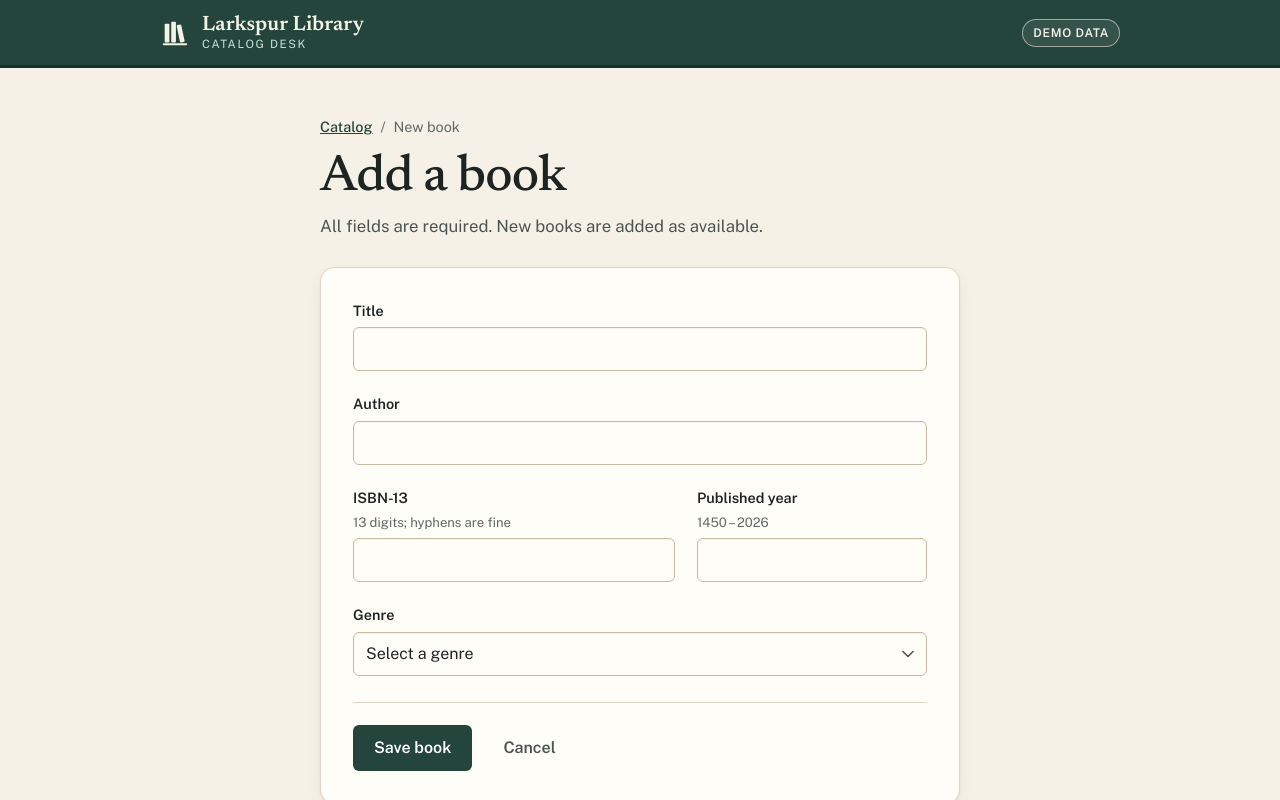
AddBookPage › FE-AC6: rejects a bad ISBN checksum and focuses ISBN
This screenshot has width=1280, height=800.
In the field labelled "Title": x=640, y=349 [353,327,927,371], type "Dune"
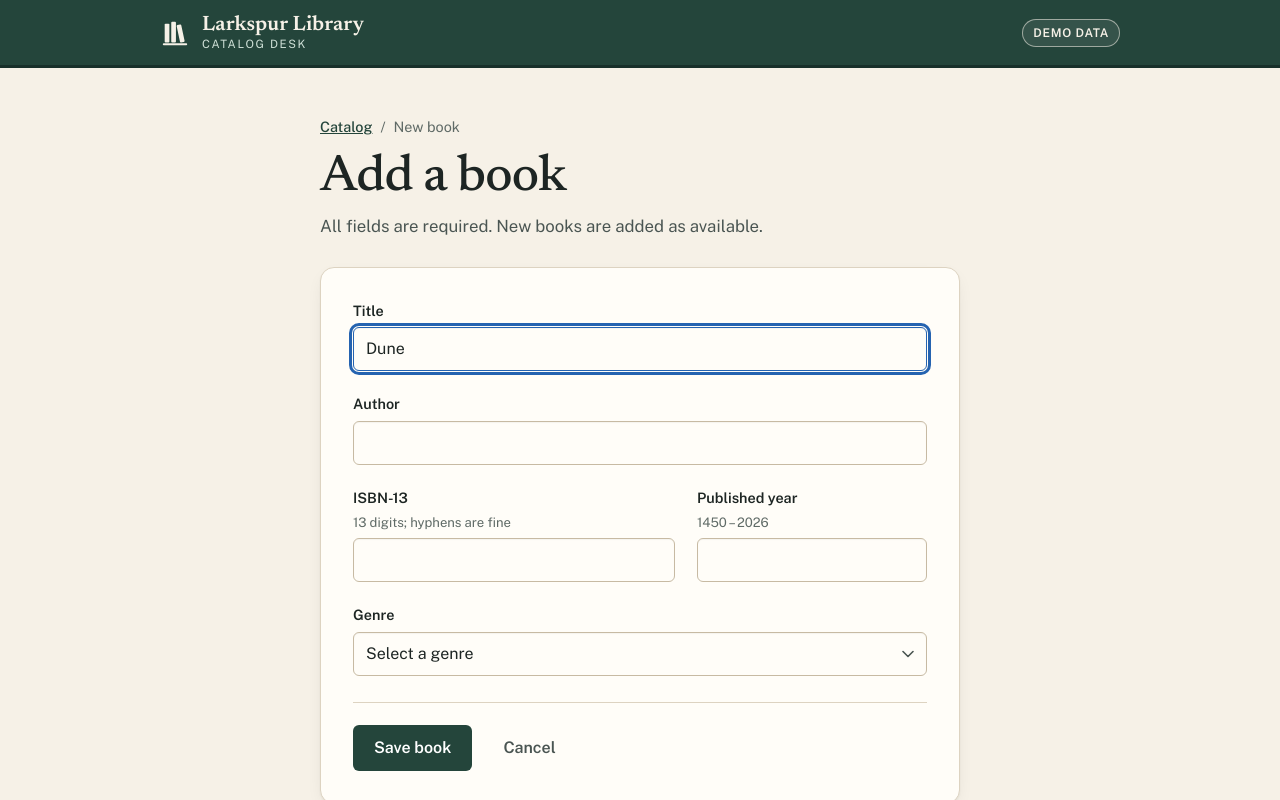
In the field labelled "Author": x=640, y=443 [353,421,927,465], type "Frank Herbert"
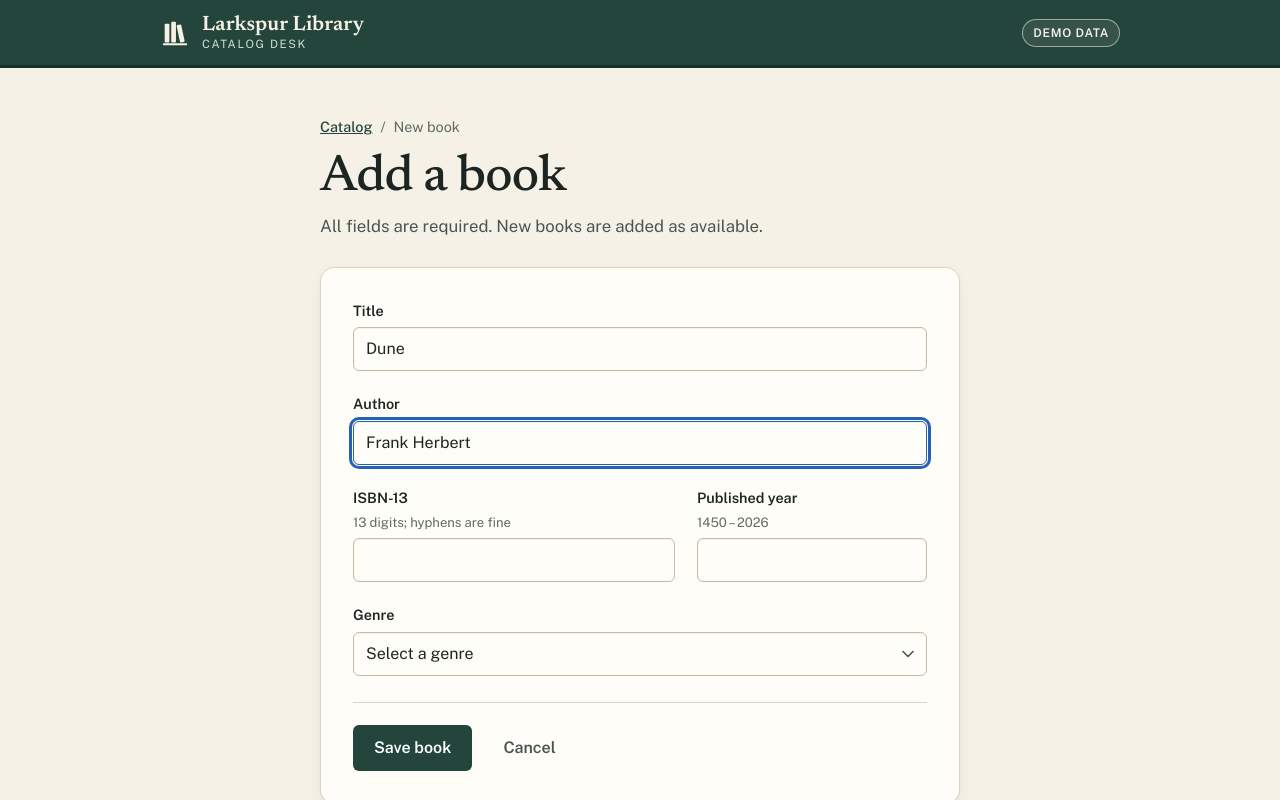
In the field labelled "ISBN-13": x=514, y=560 [353,538,675,582], type "9780441172710"
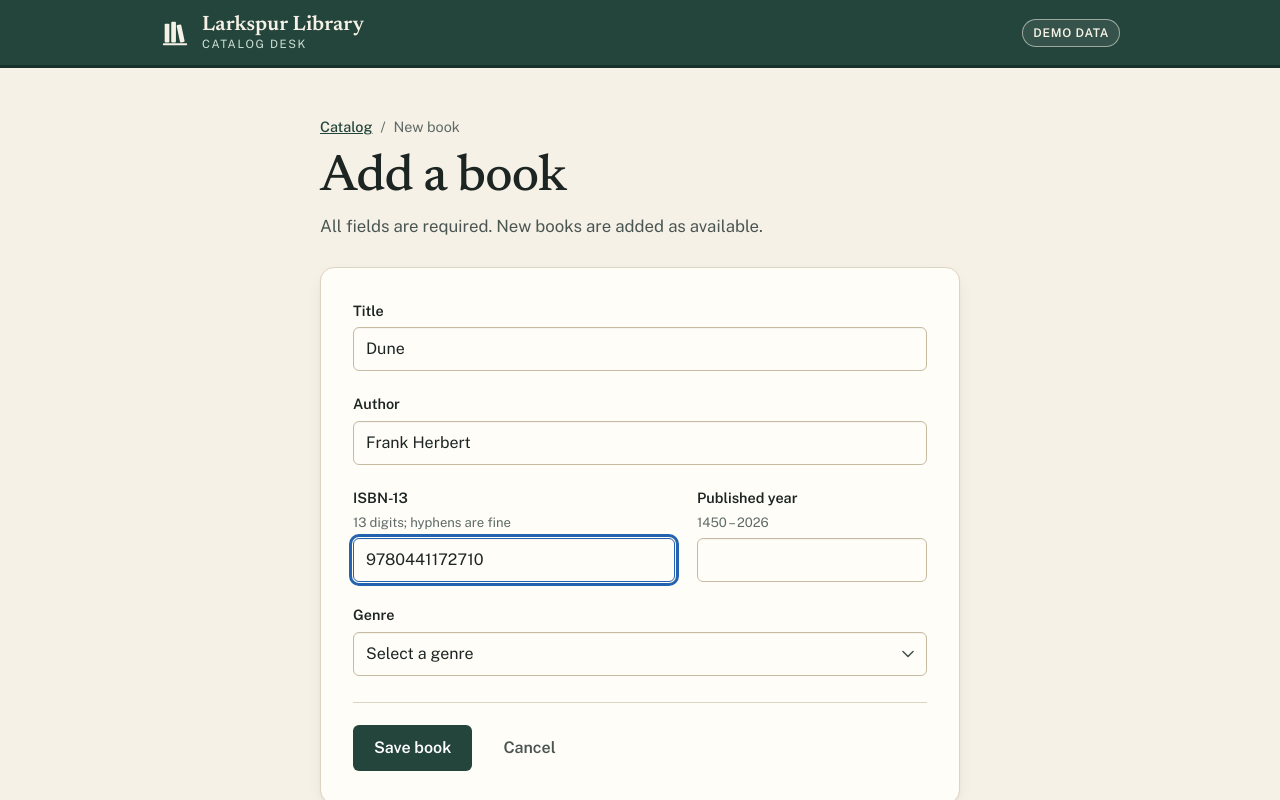
In the field labelled "Published year": x=812, y=560 [697,538,927,582], type "1965"
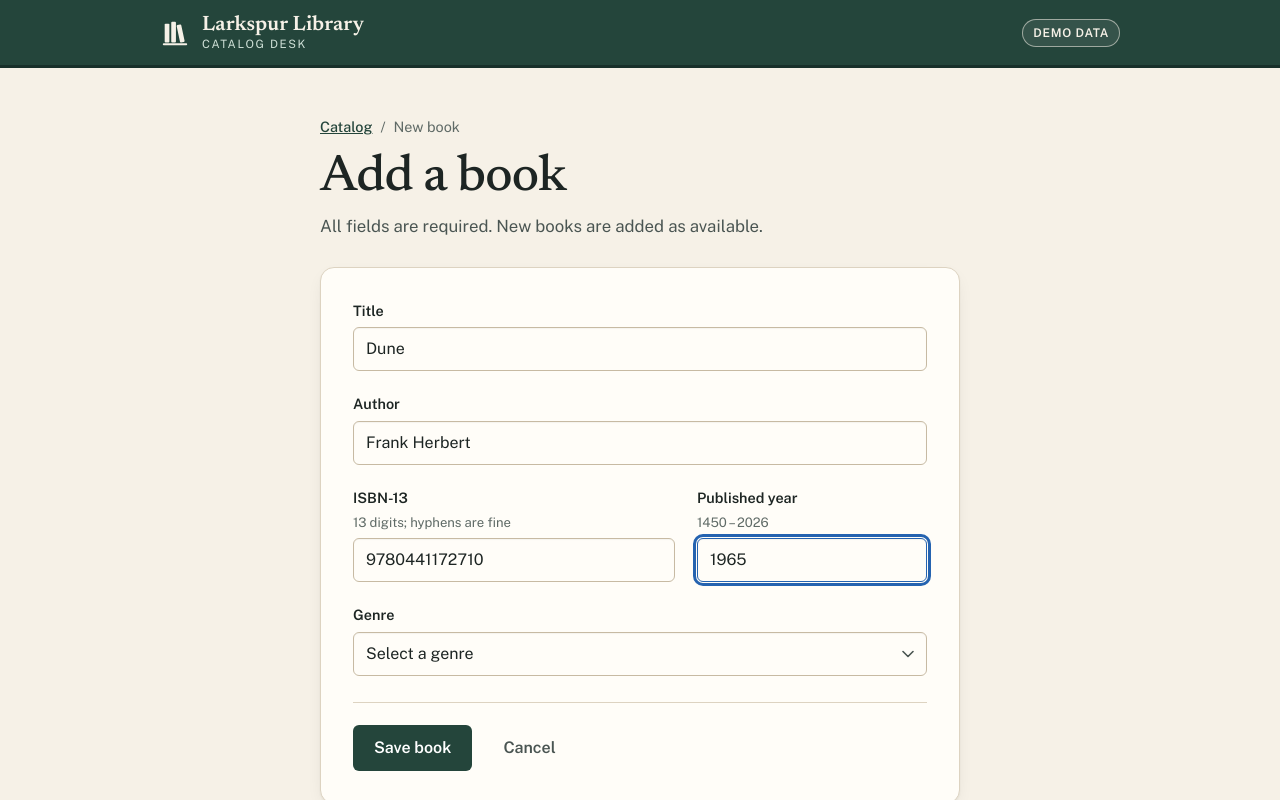
Select "Fiction" in the dropdown labelled "Genre": x=640, y=654 [353,632,927,676]
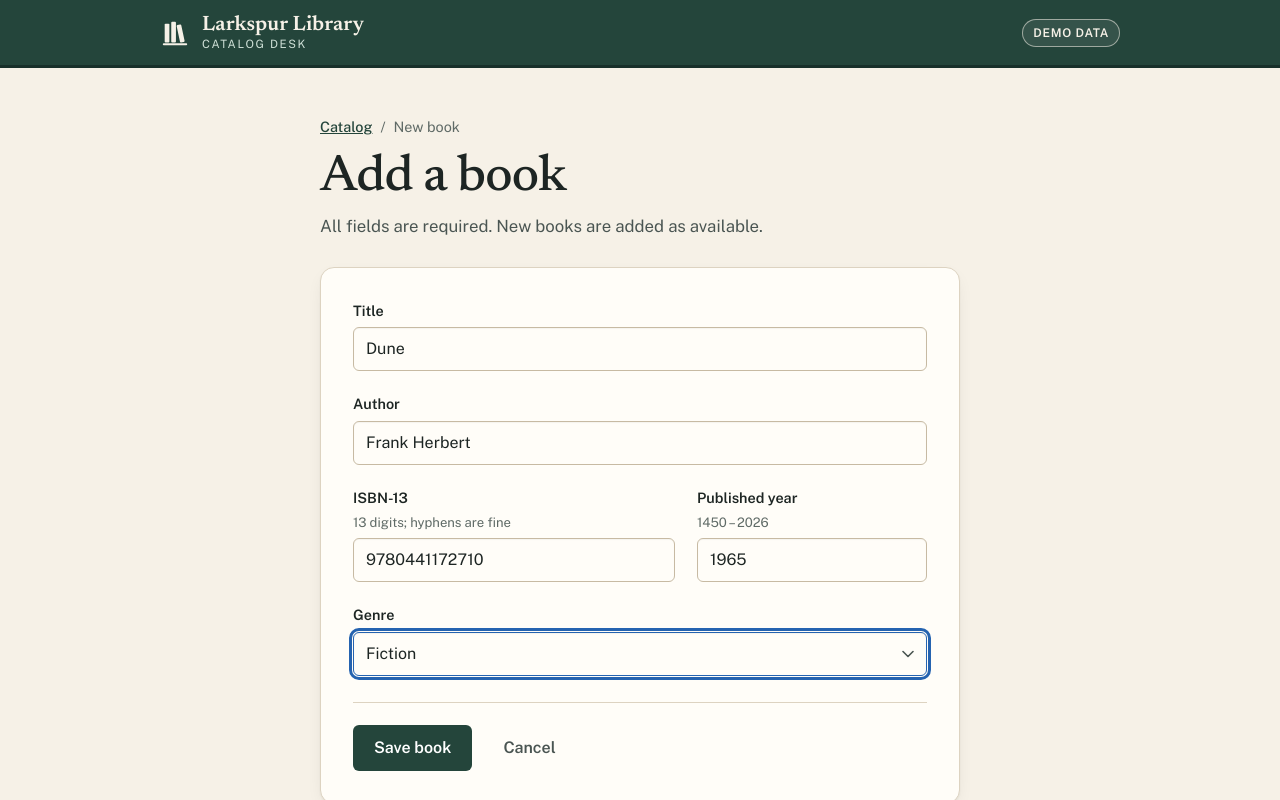
Click the button with test id "save-book": x=413, y=748 [353,725,472,771]
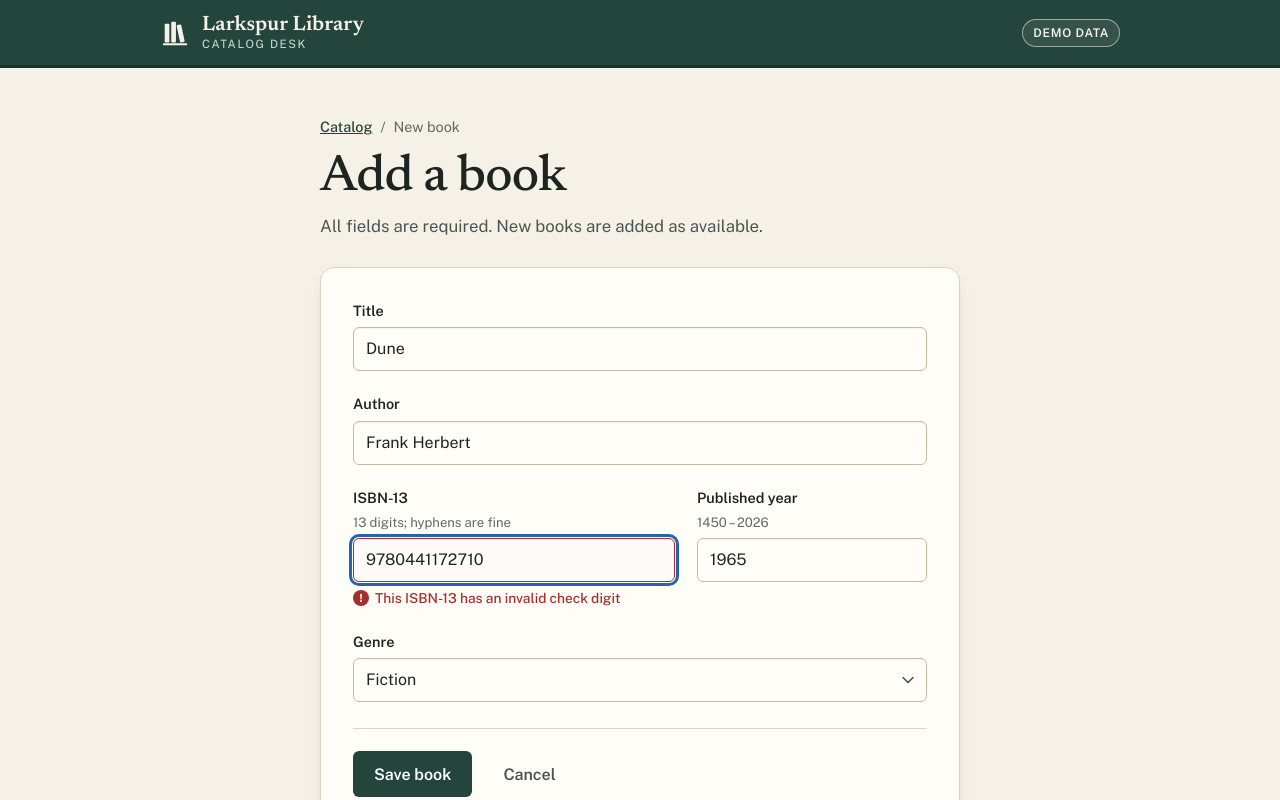
Result: the text with test id "error-isbn" shows "invalid check digit" at [375,590,620,606]
